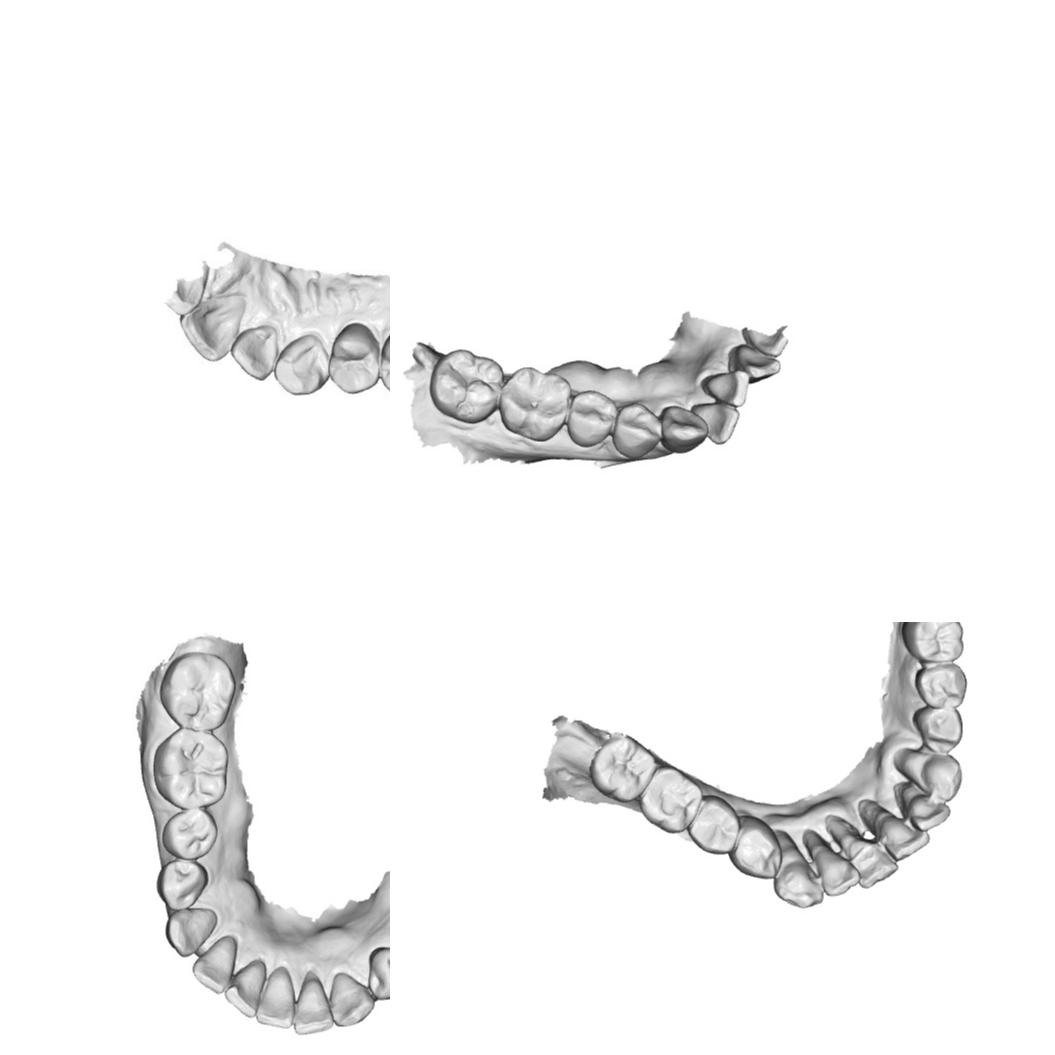canine: (771, 828, 824, 909), (892, 746, 963, 800), (275, 334, 324, 401), (164, 907, 218, 958), (328, 971, 376, 1028), (658, 403, 709, 454)
incisor: (178, 295, 243, 363), (230, 320, 280, 384), (842, 834, 900, 888), (190, 934, 238, 994), (292, 970, 334, 1036), (223, 958, 268, 1017), (813, 842, 861, 896), (255, 964, 295, 1028), (877, 814, 931, 861), (688, 400, 741, 446), (728, 344, 778, 386), (902, 790, 952, 832), (700, 368, 750, 408)
molar: (152, 725, 230, 811), (158, 650, 238, 730), (428, 347, 505, 425), (497, 365, 572, 442), (587, 732, 659, 804), (638, 765, 701, 834), (900, 622, 966, 665)
premolar: (726, 813, 784, 880), (330, 324, 380, 395), (686, 794, 742, 855), (566, 389, 617, 449), (160, 809, 218, 859), (156, 858, 210, 911), (612, 402, 663, 458), (914, 660, 968, 708), (912, 704, 964, 753), (363, 946, 390, 1000), (382, 328, 390, 396)
